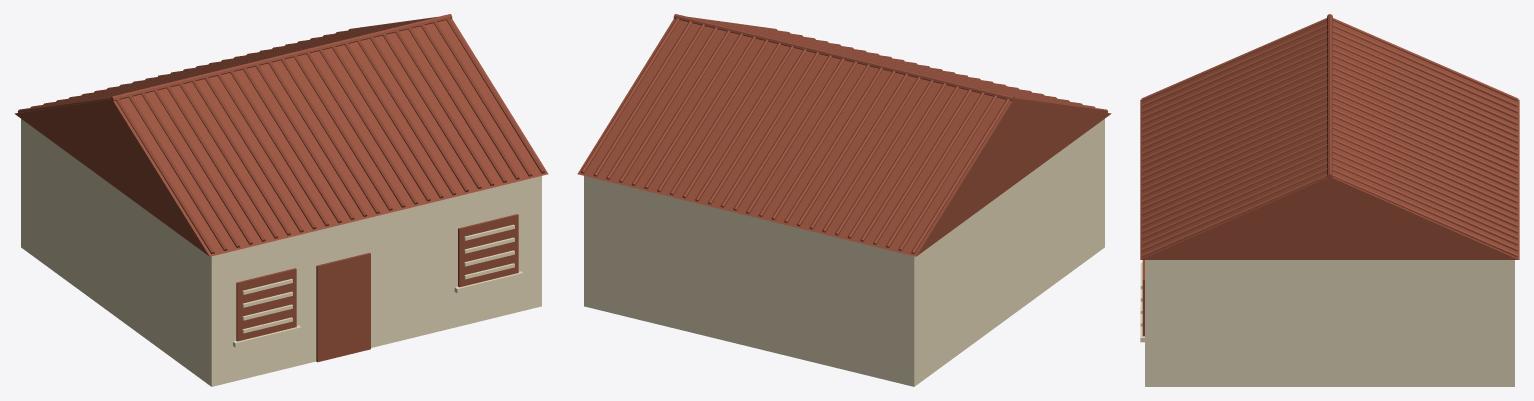
The model's file is house_b.glb.
3 views of the same model, side by side, from view 1: azimuth 30°, elevation 25°; view 2: azimuth 150°, elevation 25°; view 3: azimuth 270°, elevation 25° (orthographic). The views are drawn at different scales.
Parts seen in each view (by area): view 1: house_b; view 2: house_b; view 3: house_b.
Part boxes in pixels (x1=…): house_b: x1=14, y1=14, x2=548, y2=386; house_b: x1=577, y1=14, x2=1111, y2=386; house_b: x1=1140, y1=14, x2=1519, y2=386.
Bounding box in the file's own units: 8 × 5 × 8.
